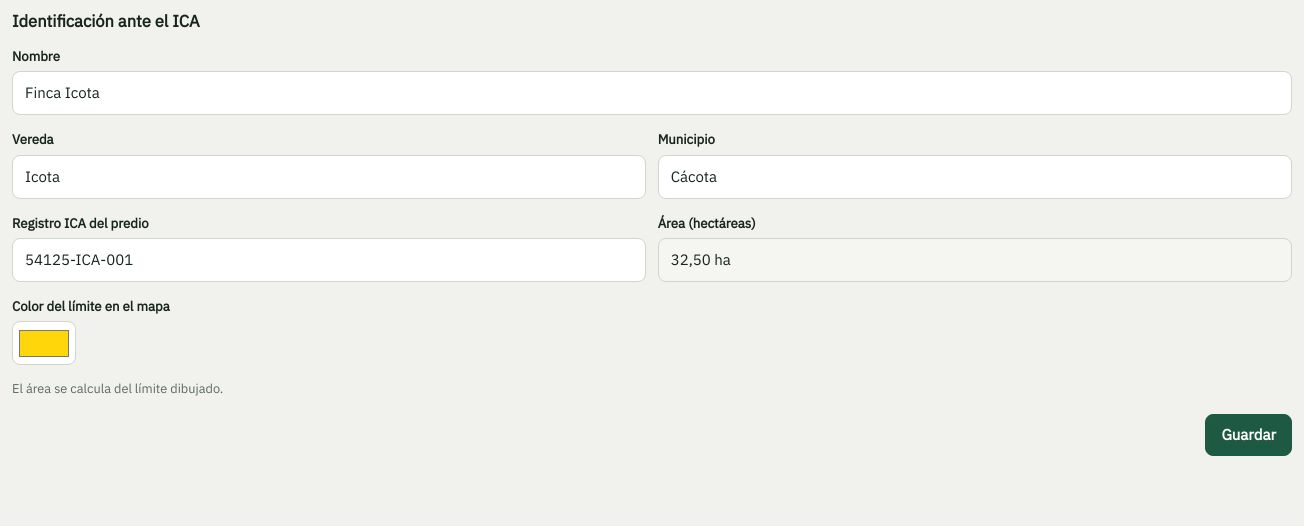
Scenario: FormularioPredio › al editar conserva el límite y no envía id
Replace the text in the field labelled "Nombre" with "Finca Alta". click: [652, 93]
box: [12, 71, 1292, 115]
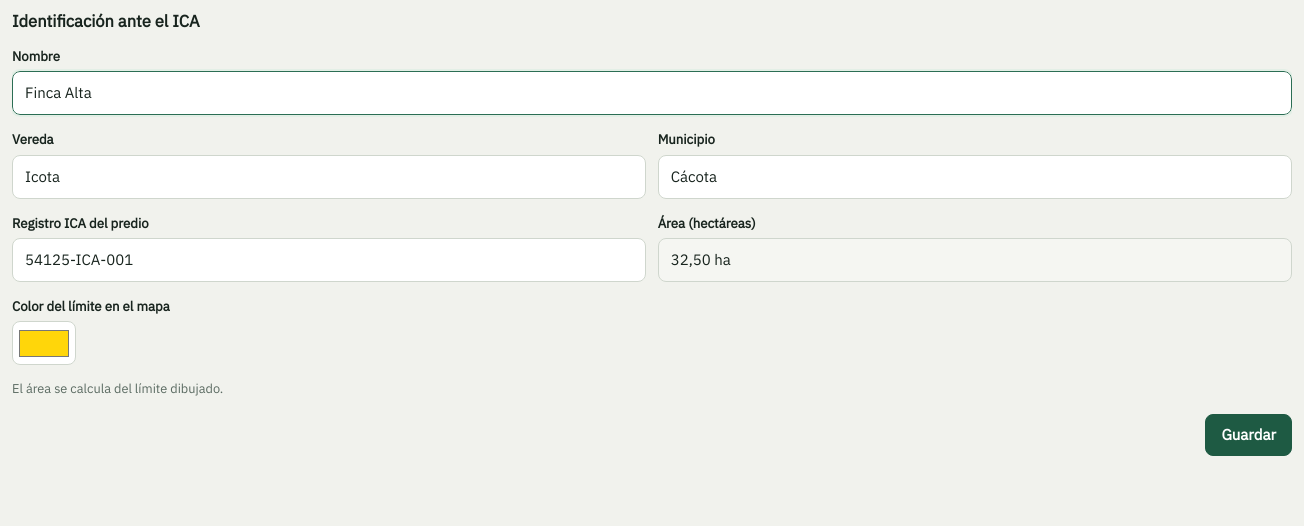
Click the button "Guardar". click: [1249, 435]
box: [1205, 414, 1292, 456]
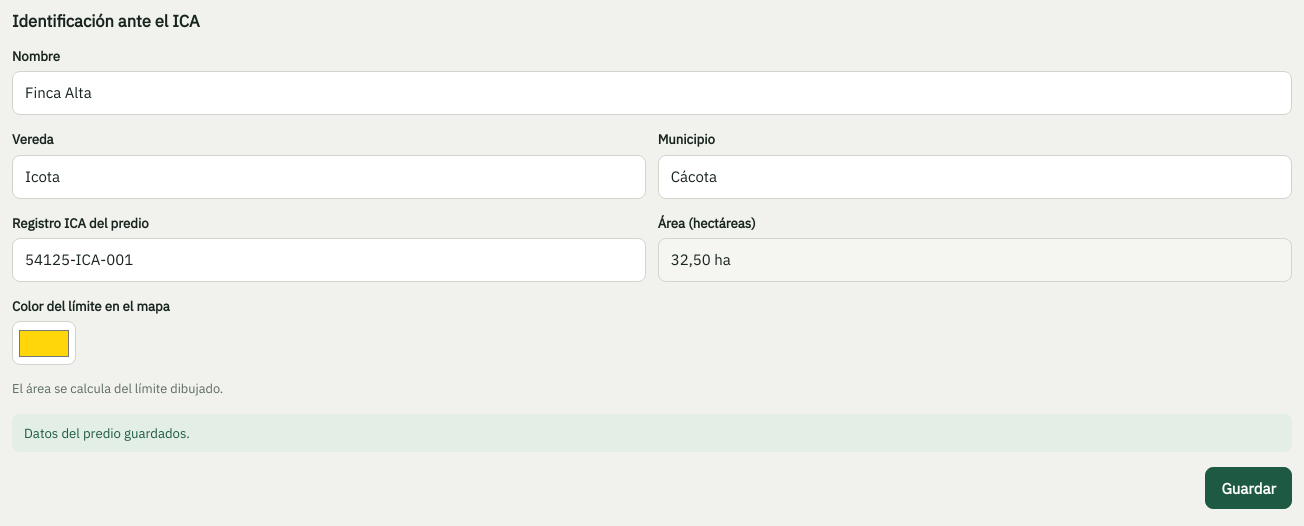
Check: the message reads "Datos del predio guardados.", box [24, 424, 190, 442]
